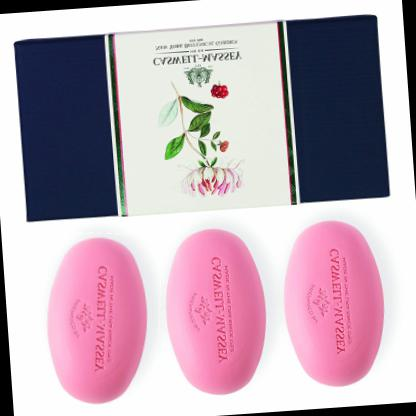soap: (27, 226, 170, 415)
